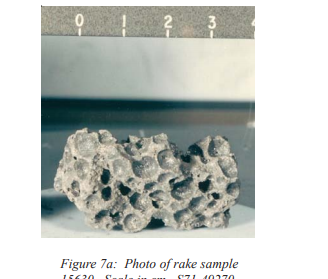Basalt: (63, 105, 246, 232)
